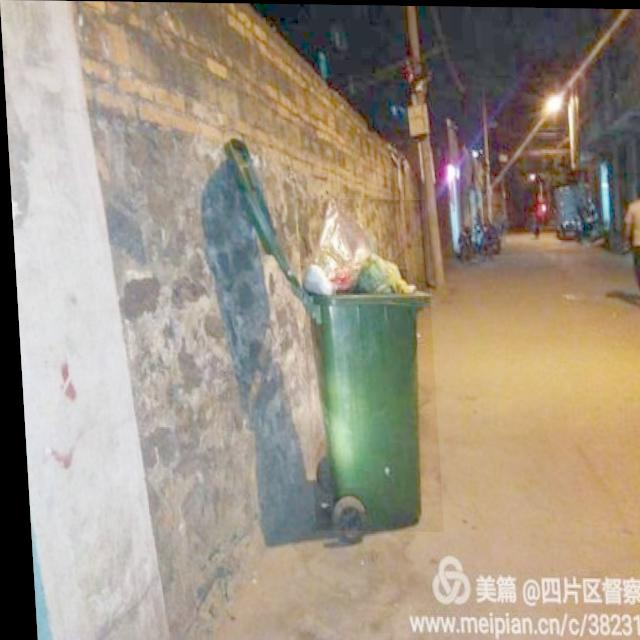overflow: (295, 198, 438, 531)
